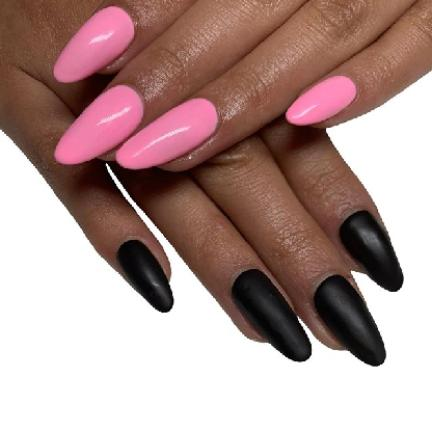Nail: (116, 98, 219, 169), (232, 269, 311, 361), (54, 85, 143, 164), (314, 275, 386, 366), (53, 6, 134, 82), (341, 211, 403, 292), (117, 240, 174, 312), (286, 76, 356, 126)
